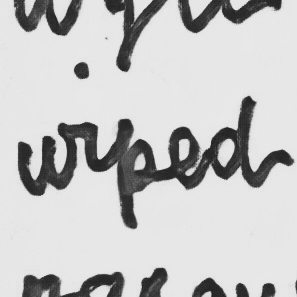d: (207, 93, 265, 189)
e: (164, 123, 203, 192)
i: (73, 58, 106, 175)
p: (111, 116, 159, 232)
w: (13, 122, 79, 197)
